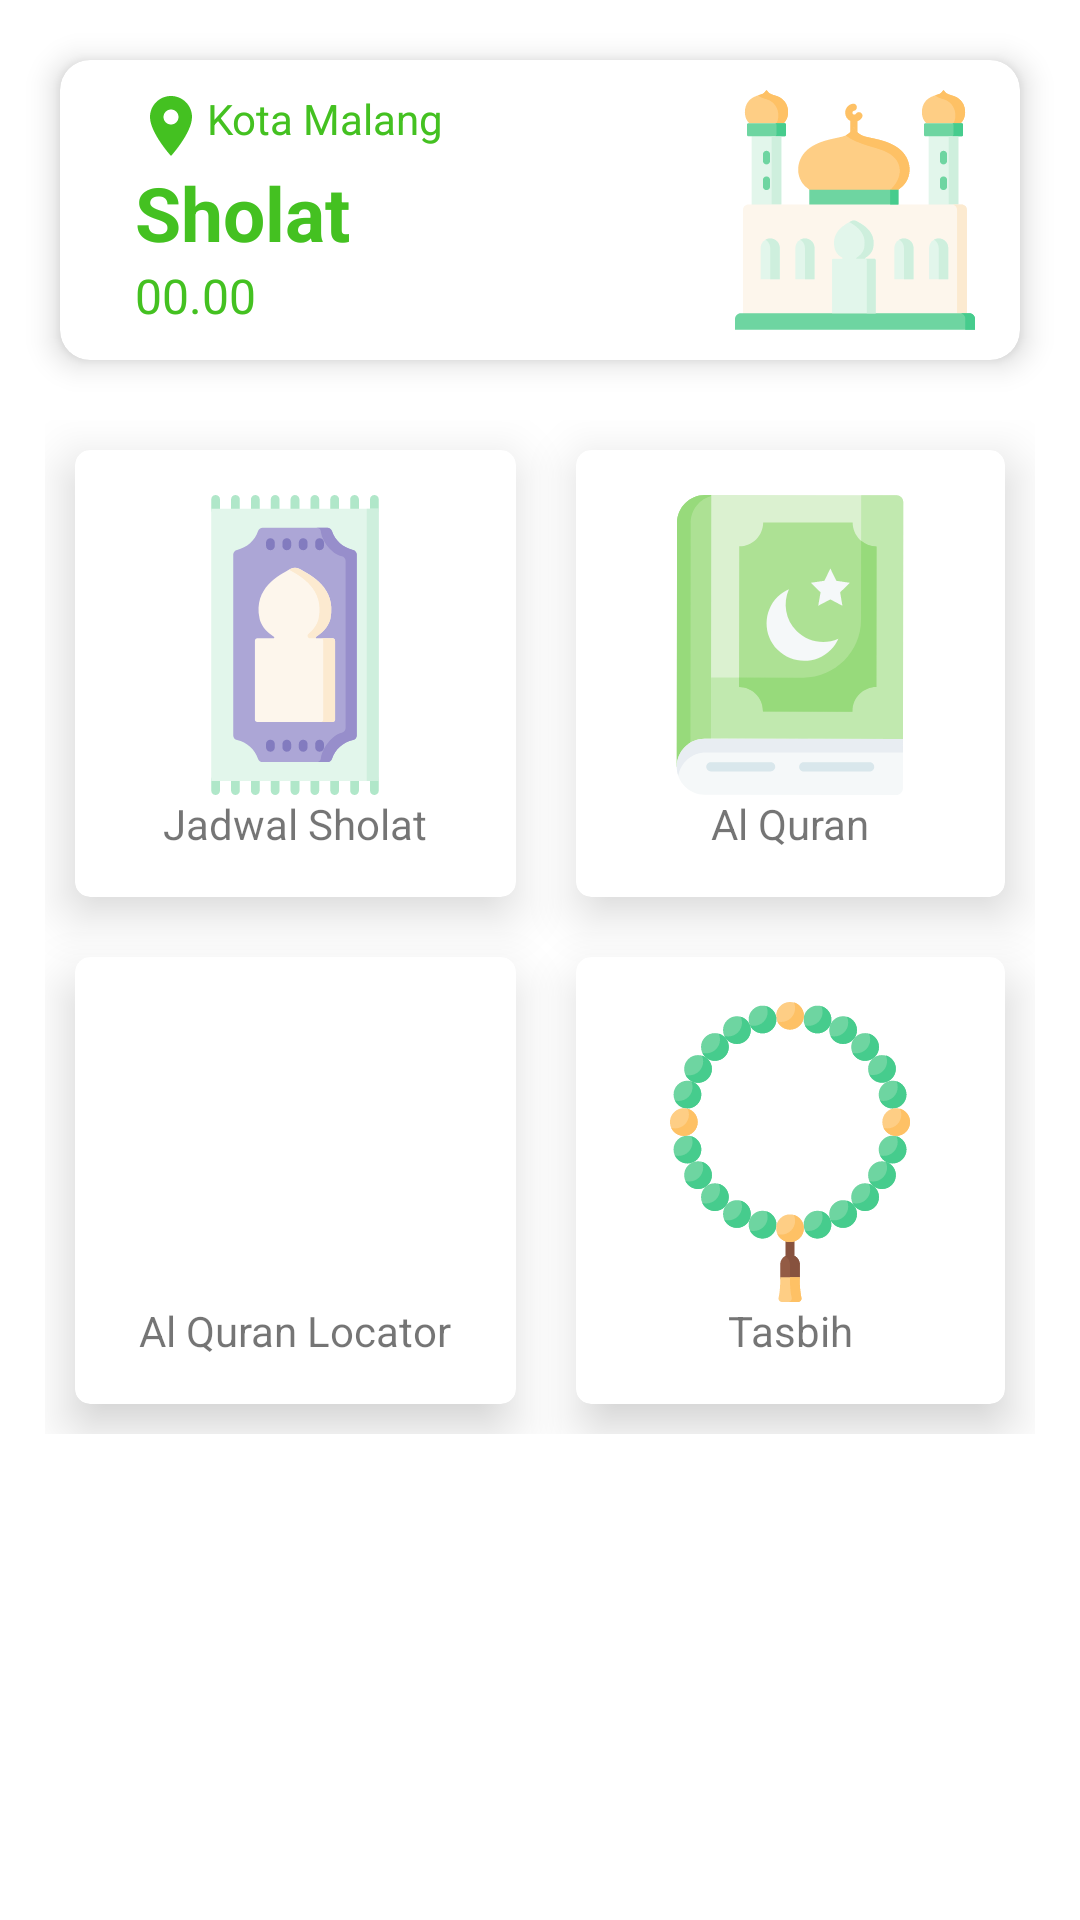

Named icons in this screenshot (1080 x 1920) and their bounding boxes, {"x1": x1, "y1": y1, "x2": x2, "y2": y2}:
sajadah: {"x1": 211, "y1": 495, "x2": 379, "y2": 795}
